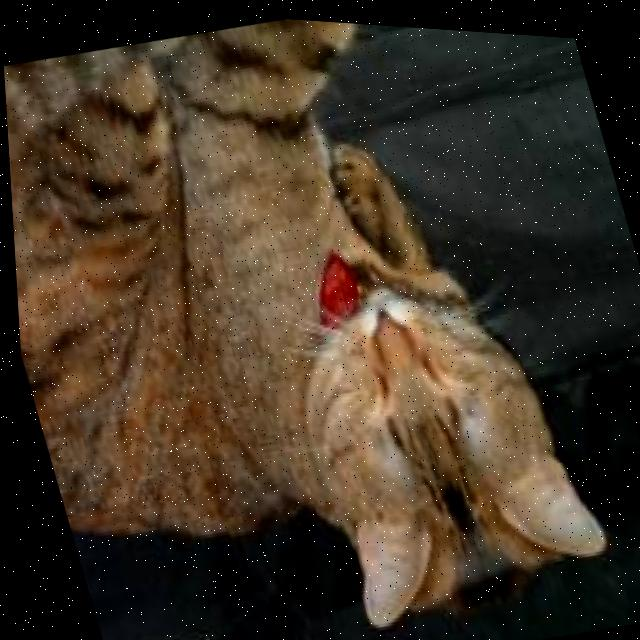Bengal: (0, 0, 625, 640)
